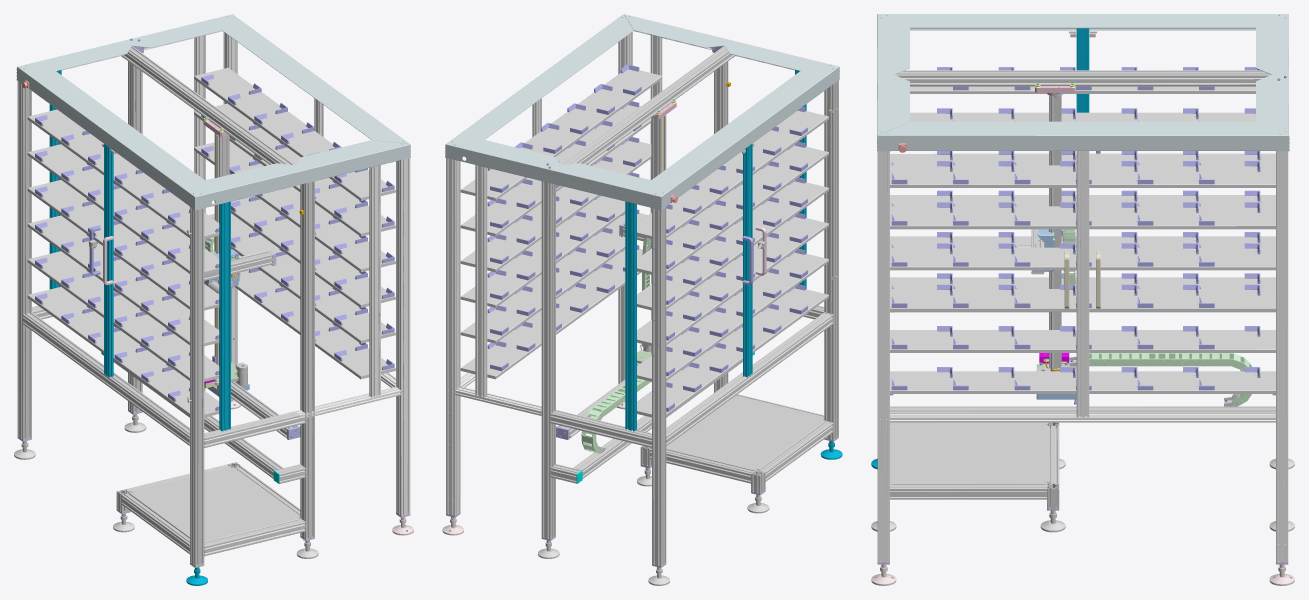
The model's file is ASRS.fbx.
3 views of the same model, side by side, from view 1: azimuth 30°, elevation 25°; view 2: azimuth 150°, elevation 25°; view 3: azimuth 270°, elevation 25° (orthographic). The views are drawn at different scales.
Visible parts, largest first — view 1: 3weels shaft; view 2: 3weels shaft; view 3: 3weels shaft.
Part boxes in pixels (<box>): 3weels shaft: <box>14,14,413,585</box>; 3weels shaft: <box>442,14,842,585</box>; 3weels shaft: <box>871,14,1294,585</box>.
Size of the model in its own units: 102 by 158 by 135.
